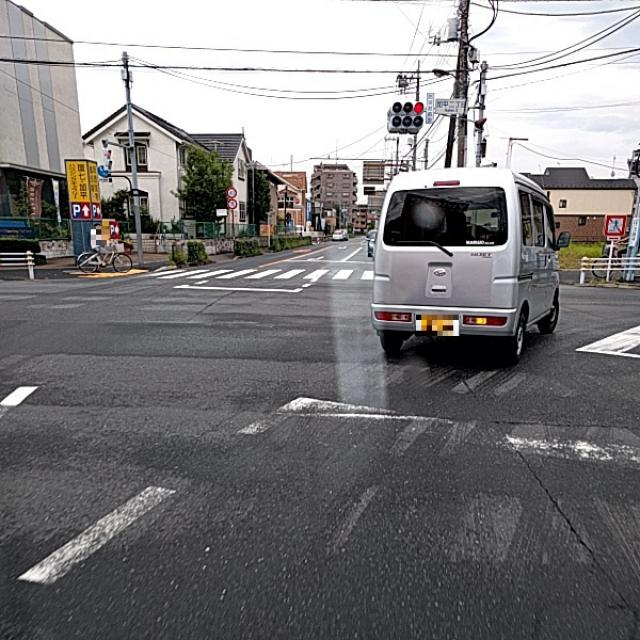pothole: (516, 428, 576, 503)
